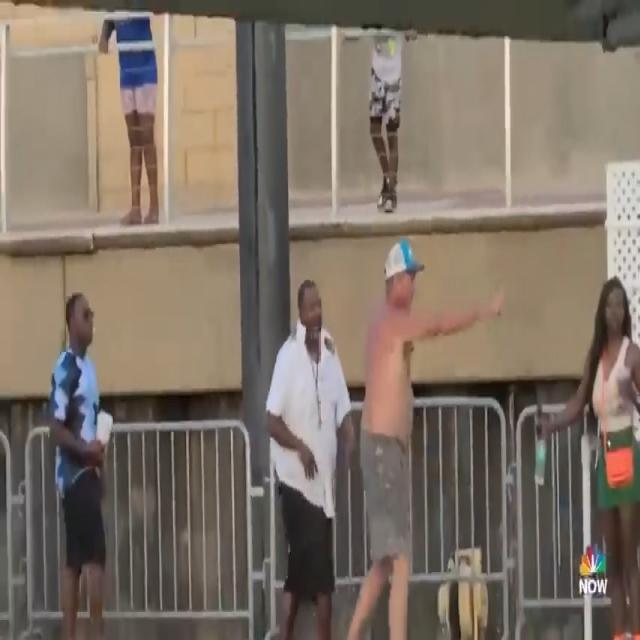non-fight: (267, 242, 513, 636), (532, 258, 640, 640), (44, 289, 140, 638)
